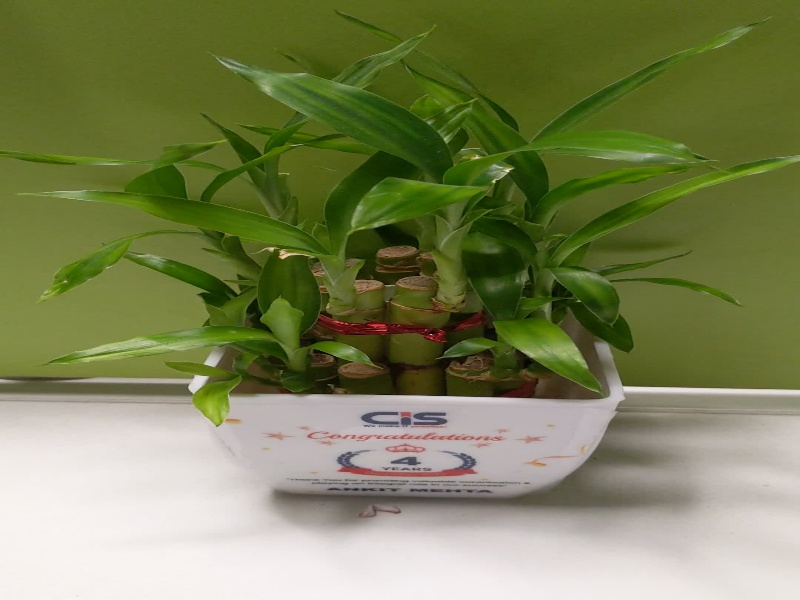bamboo: (2, 7, 795, 523)
